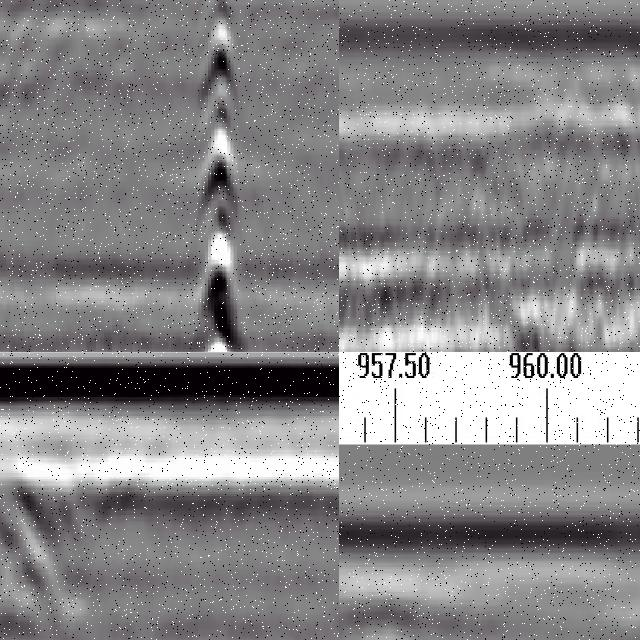crack: (194, 1, 242, 353)
loose: (1, 444, 140, 633), (340, 224, 399, 353)
